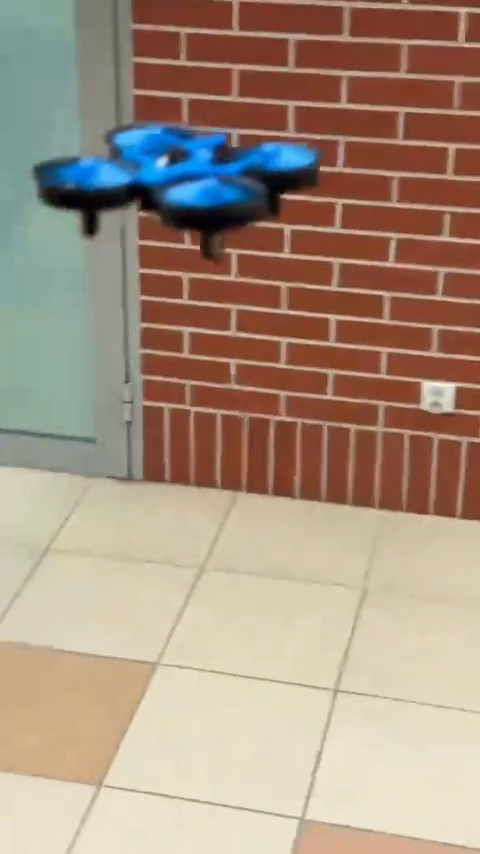drone: (32, 120, 331, 250)
